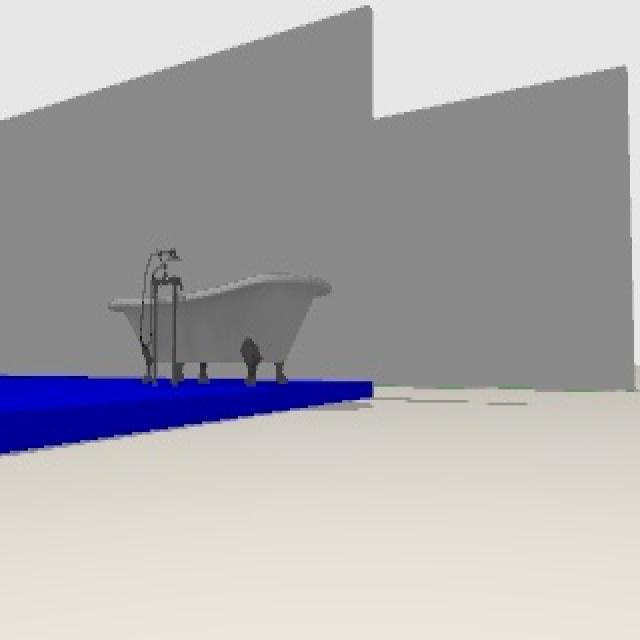bathtub: (110, 246, 336, 386)
